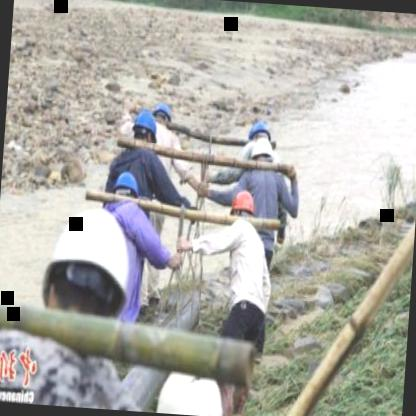helmet: (26, 194, 150, 361), (241, 132, 277, 172), (226, 186, 258, 231), (128, 110, 160, 152), (110, 166, 142, 206), (247, 114, 274, 144), (151, 97, 176, 129)
